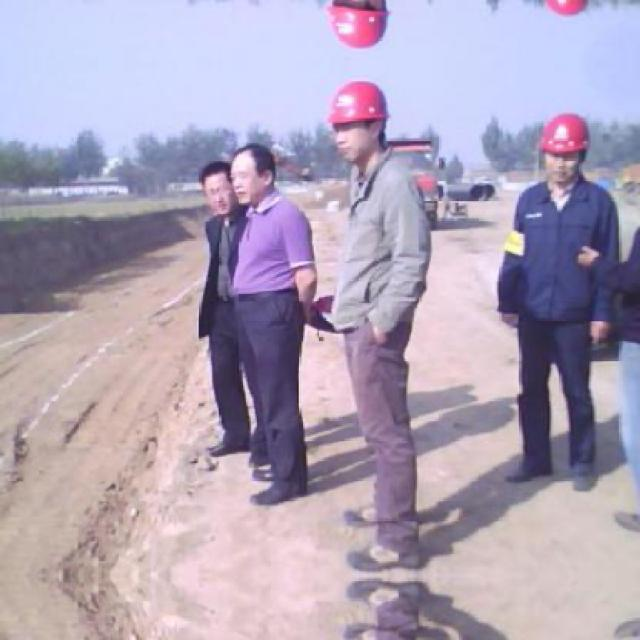con casco: (306, 58, 406, 173), (530, 101, 616, 189)
sin casco: (220, 134, 291, 218), (192, 152, 246, 232)
